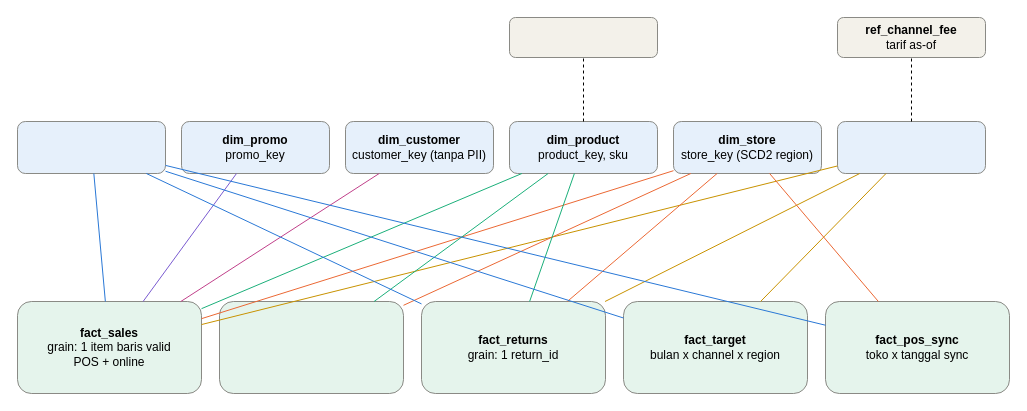
This 1027x411 diagram has some shape labels left out. Each missing label, with the centre of its shape:
"dim_channel channel_key" belongs at [911,147].
"dim_date date_key" belongs at [91,147].
"dim_product_cost HPP SCD2 (as-of)" belongs at [583,37].
"fact_sales_excluded void, order batal (untuk rekonsiliasi)" belongs at [311,347].
